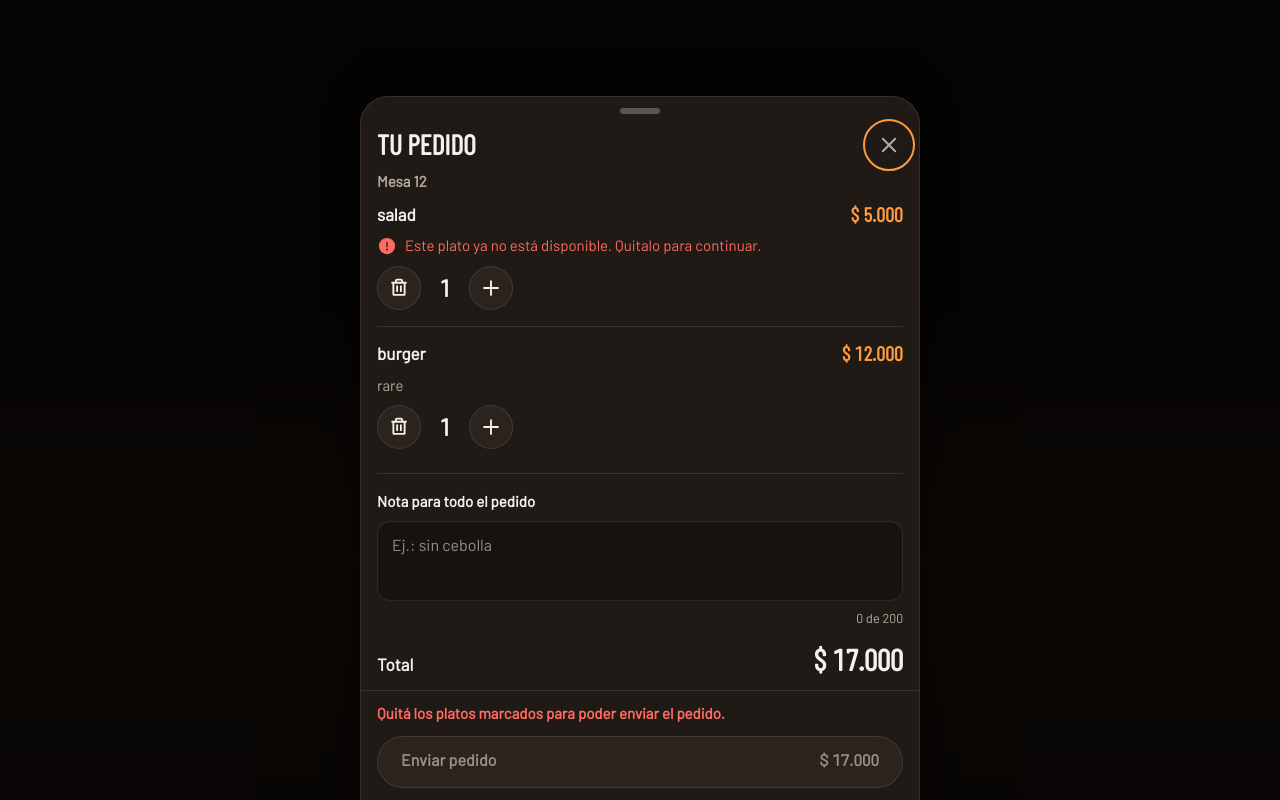
Test case: CartSheet: resumen y envío del pedido (RF2, RF20-RF22, RF24-RF27, RF44; plan §5.4) › líneas que ya no son válidas frente a la carta vigente (RF44, CL15, CL27) › marca la línea con su motivo y bloquea el envío hasta quitarla
Expected: the list item that starts with "salad" shows "Este plato ya no está disponible. Quitalo para continuar.", x1=405 y1=236 x2=762 y2=254
Expected: the list item "burger $ 12.000 rare 1" does not show "ya no está disponible", x1=377 y1=327 x2=903 y2=465
Click the button named "Quitar" below "salad": x=399, y=288 x1=377 y1=266 x2=421 y2=310
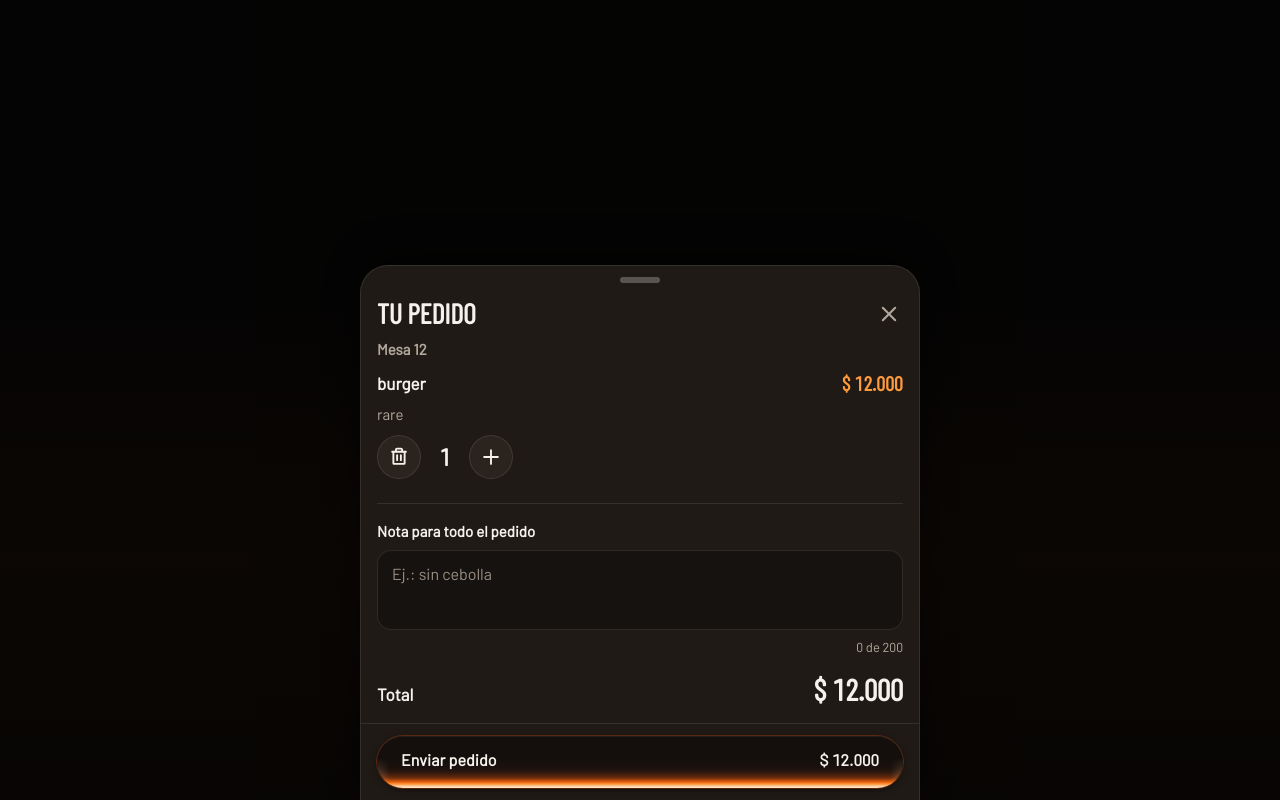
Now the button "Enviar pedido $ 12.000" is enabled, box x1=377 y1=736 x2=903 y2=788
Now the message "Quitá los platos marcados para poder enviar el pedido." is gone
